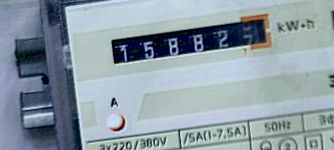1: (118, 43, 129, 62)
2: (216, 27, 231, 49)
5: (140, 39, 156, 60)
7: (241, 31, 254, 45)
8: (190, 31, 206, 53), (167, 35, 181, 56)
screen: (105, 11, 277, 72)
